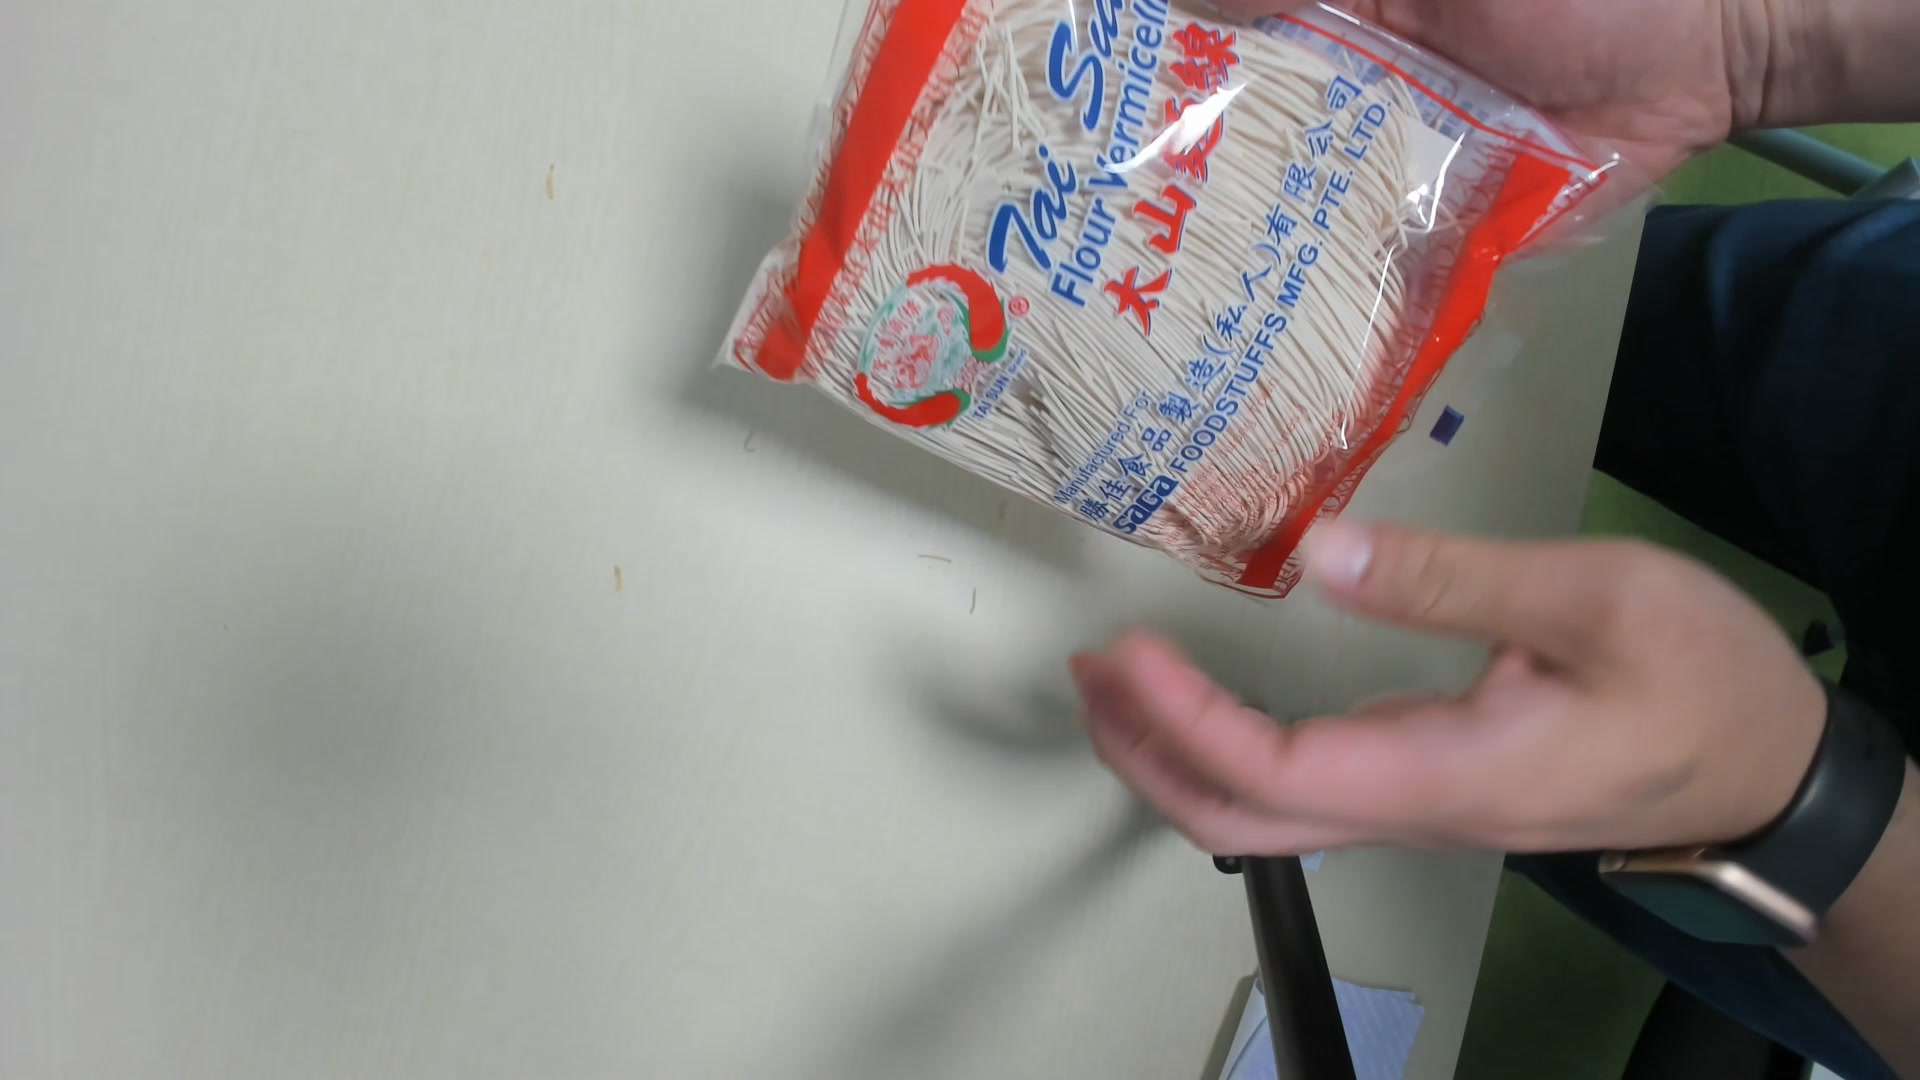BeeHoonVermicelli_100-199g_Halal_NonHealthy: (717, 1, 1640, 609)
